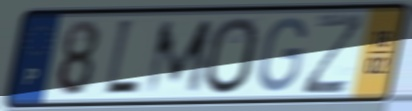8: (55, 18, 102, 99)
G: (255, 15, 309, 94)
L: (101, 15, 143, 100)
M: (142, 16, 216, 97)
O: (203, 14, 262, 97)
Z: (299, 11, 369, 97)
